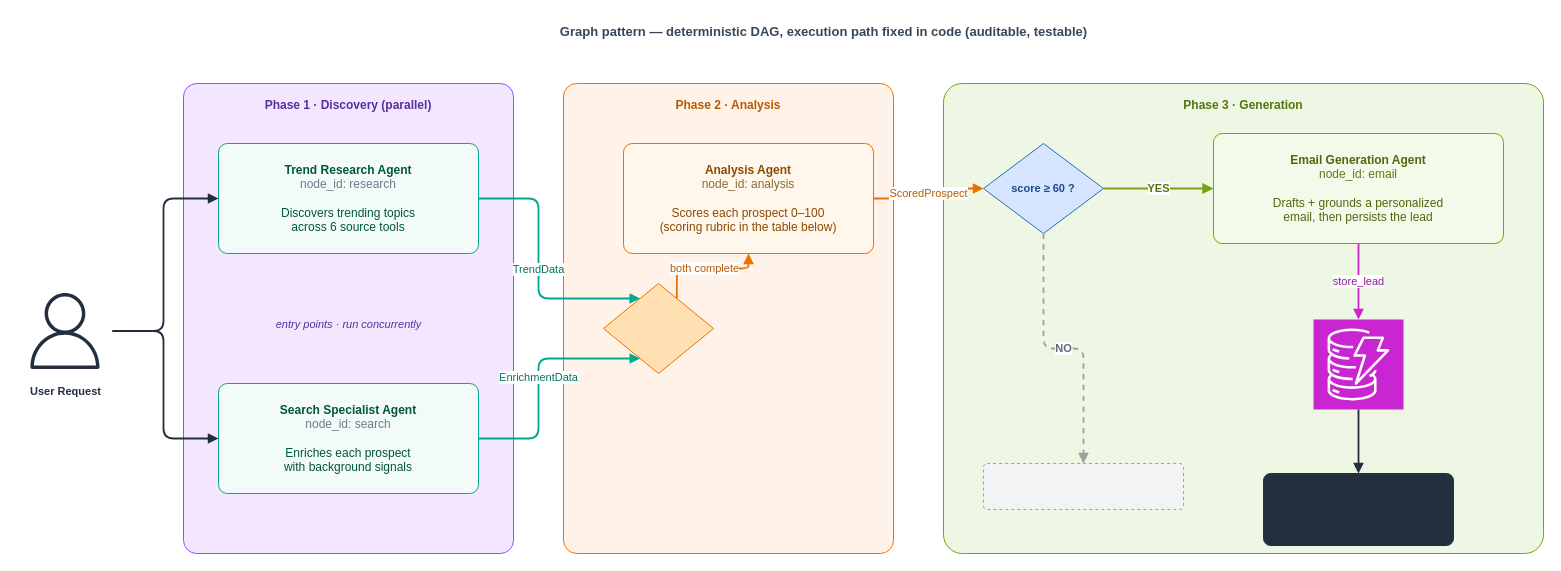
Some shapes in this 1561 by 571 pixel diagram are drawn without their labels. The centre of each missing label's shape, as x and y in pixels:
"Amazon DynamoDB leads table" goes at point (1358, 364).
"AND wait for both" goes at point (658, 328).
"Scored Leads + Personalized Emails" goes at point (1358, 509).
"Skip · log + save tokens" goes at point (1083, 486).
